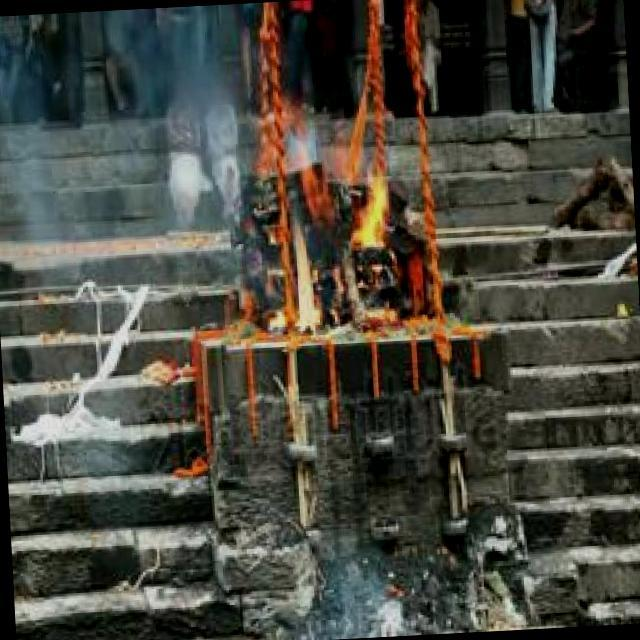Fire: (276, 96, 401, 335)
